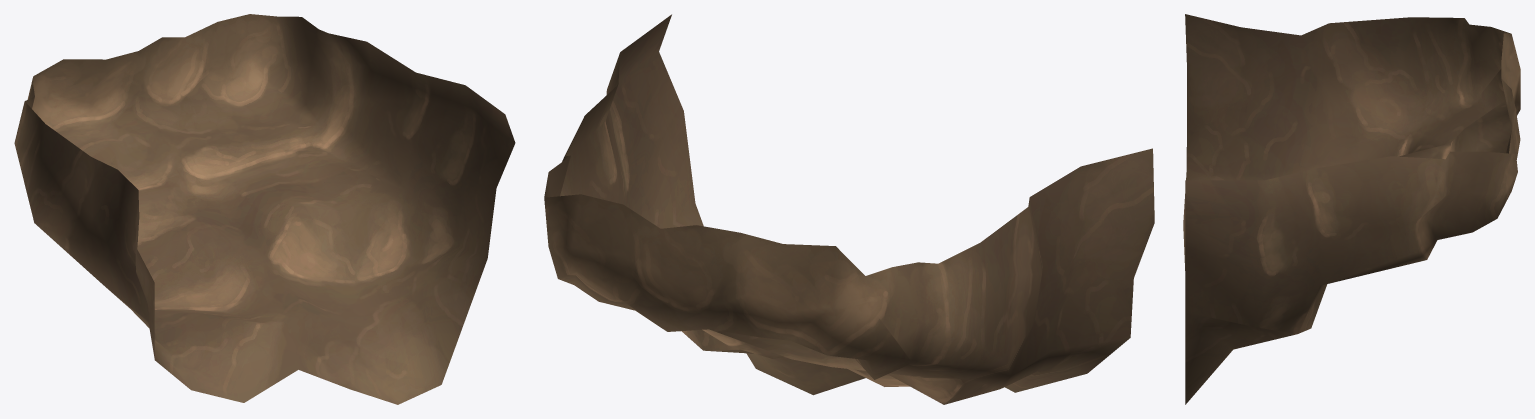
Rendered from dm_cliff_01.fbx.
3 renders of one model, left to right at view 1: azimuth 30°, elevation 25°; view 2: azimuth 150°, elevation 25°; view 3: azimuth 270°, elevation 25°, orthographic. The views are drawn at different scales.
Visible parts, largest first — view 1: dm_cliff_01; view 2: dm_cliff_01; view 3: dm_cliff_01.
Boxes of the visible parts, box(x1,y1,x2,y2) form: dm_cliff_01: box(14, 14, 515, 404); dm_cliff_01: box(544, 14, 1154, 404); dm_cliff_01: box(1183, 14, 1520, 404).
Size of the model in its own units: 3.22 by 2.21 by 2.48.
